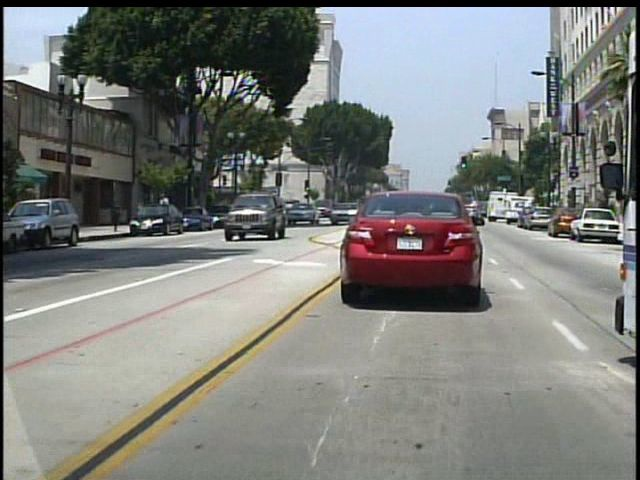person: (163, 192, 177, 225)
